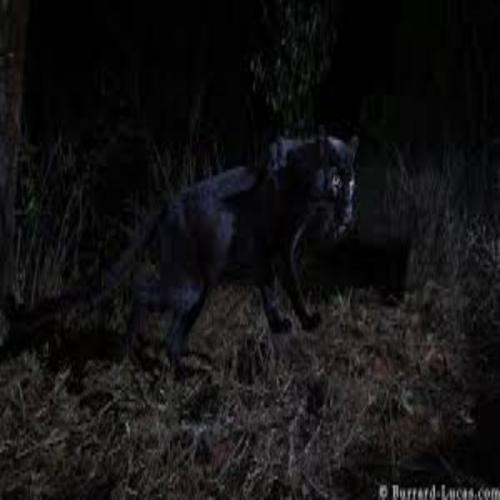panther-endangered: (25, 123, 365, 372)
